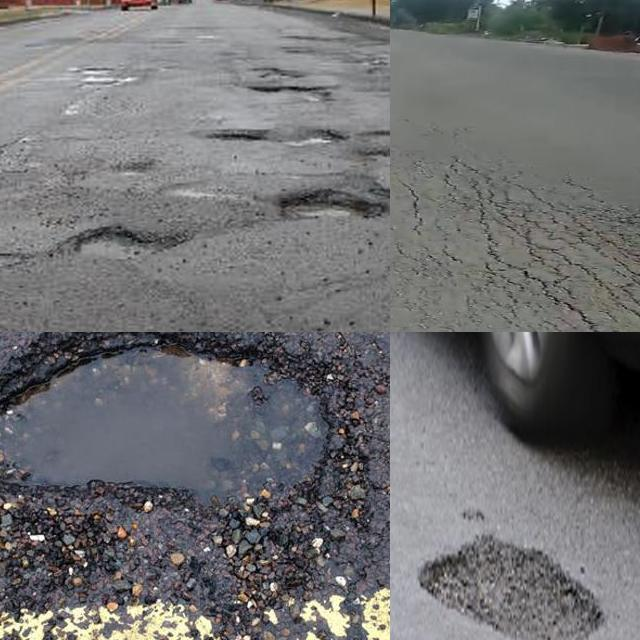Lubang: (0, 332, 318, 541), (436, 531, 616, 640), (274, 191, 383, 224), (71, 227, 186, 258)
Retak Buaya: (416, 163, 640, 332)
